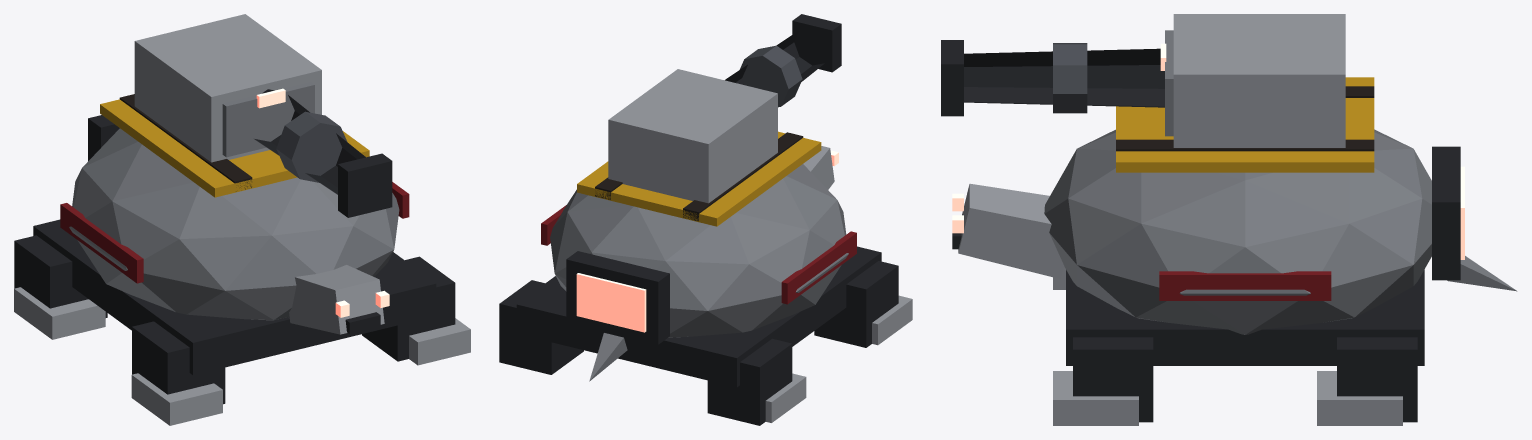
The model's file is turret.glb.
The picture shows the model from 3 angles, left to right: view 1: azimuth 30°, elevation 25°; view 2: azimuth 150°, elevation 25°; view 3: azimuth 270°, elevation 25°; orthographic projection. The views are drawn at different scales.
Visible parts, largest first — view 1: DTurretHull, DTurretGlow; view 2: DTurretHull, DTurretGlow; view 3: DTurretHull, DTurretGlow.
Part boxes in pixels (x1,y1,x2,y2): DTurretHull: [14, 14, 470, 425]; DTurretGlow: [256, 88, 389, 317]; DTurretHull: [499, 14, 912, 425]; DTurretGlow: [576, 150, 838, 332]; DTurretHull: [941, 14, 1517, 425]; DTurretGlow: [952, 43, 1464, 259].
Bounding box in the file's own units: 1.36 × 1.15 × 2.01.
